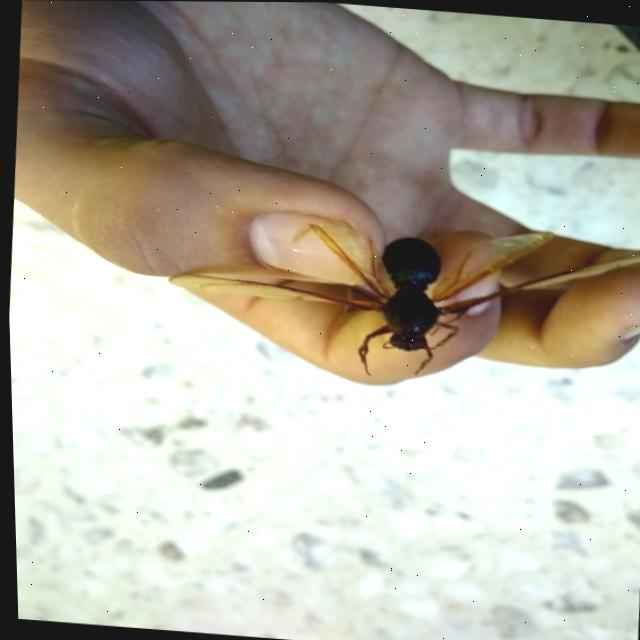Alive-Female-Alate: (160, 201, 640, 397)
